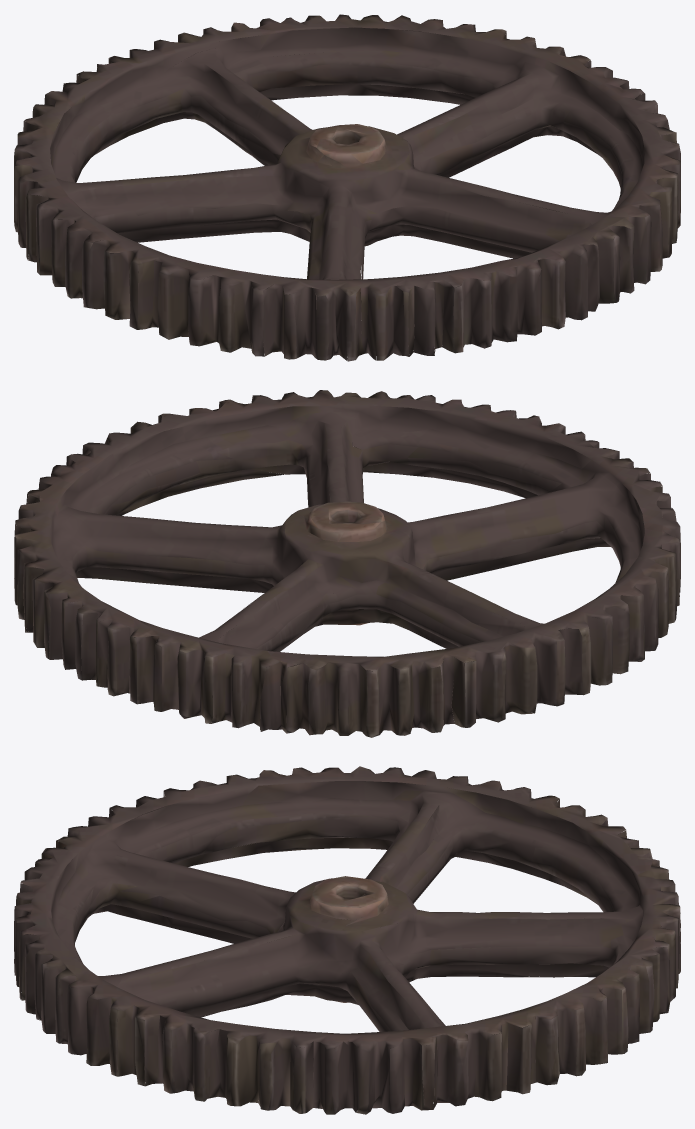
Rendered from engranaje.glb.
3 renders of one model, top to bottom at view 1: azimuth 30°, elevation 25°; view 2: azimuth 150°, elevation 25°; view 3: azimuth 270°, elevation 25°, orthographic.
Parts seen in each view (by area): view 1: geometry_0; view 2: geometry_0; view 3: geometry_0.
Part boxes in pixels (x1,y1,x2,y2): geometry_0: (14, 14, 680, 361); geometry_0: (14, 390, 680, 737); geometry_0: (14, 766, 680, 1114).
Bounding box in the file's own units: 0.5 × 0.08 × 0.4996.
Materials: 1 (1 with a texture image).
